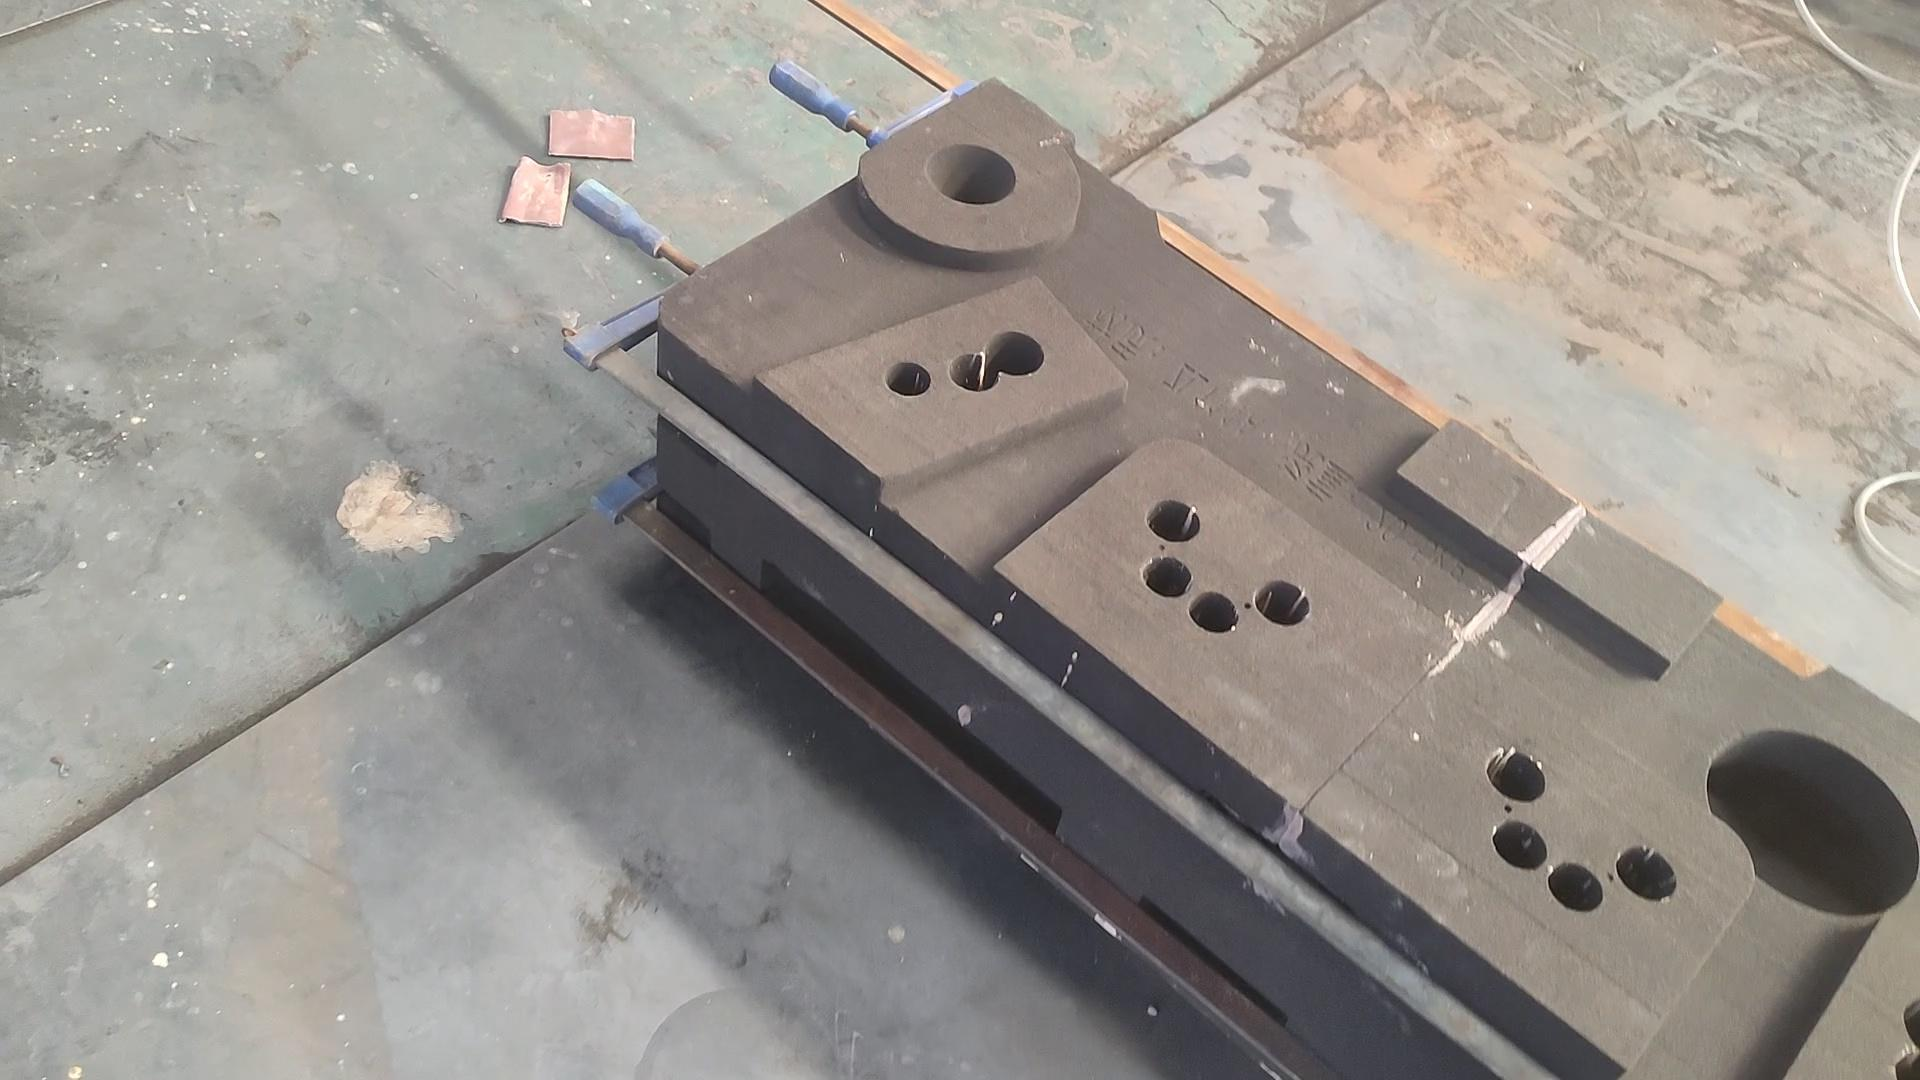pouring hole: (928, 142, 1015, 204)
